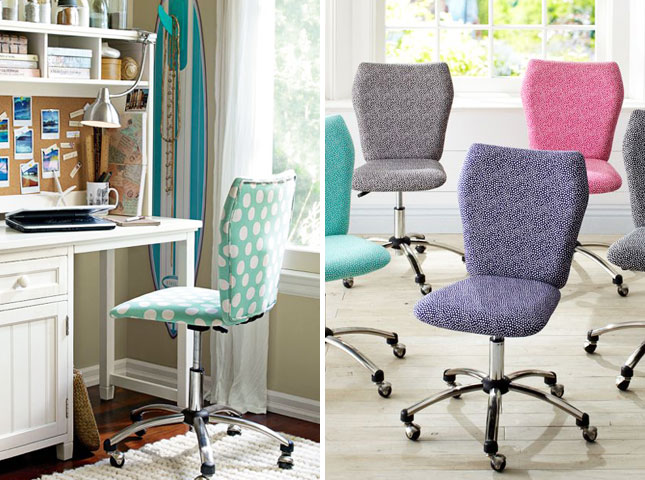chairs: (400, 142, 601, 474), (104, 170, 298, 479), (514, 55, 633, 306), (342, 55, 465, 297), (325, 115, 410, 402), (582, 107, 645, 390)
